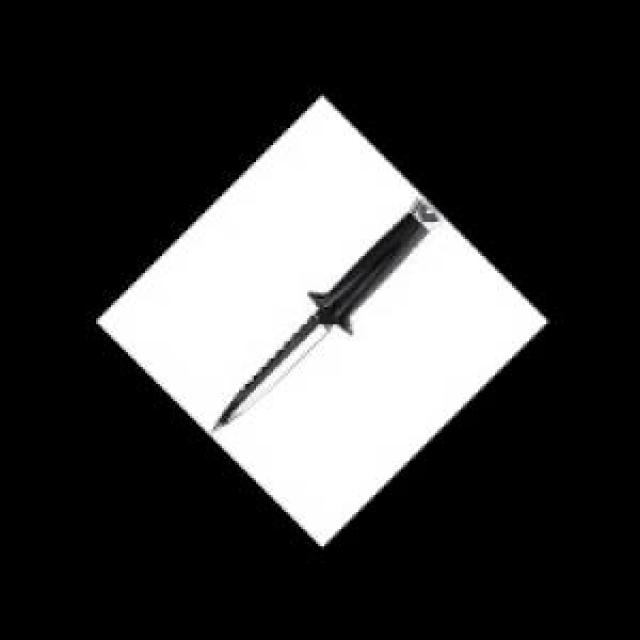knife: (209, 196, 443, 438)
